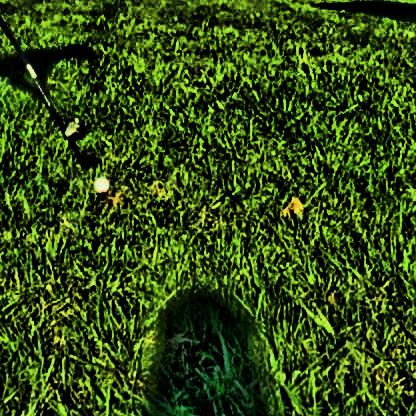golfball: (90, 173, 107, 190)
